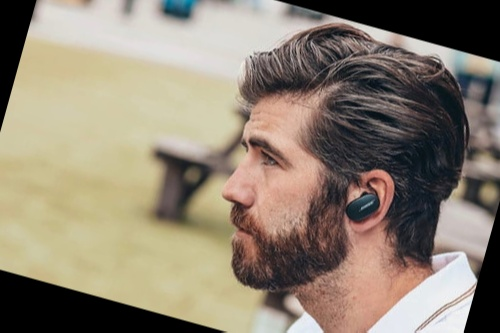earphone: (339, 163, 399, 239)
